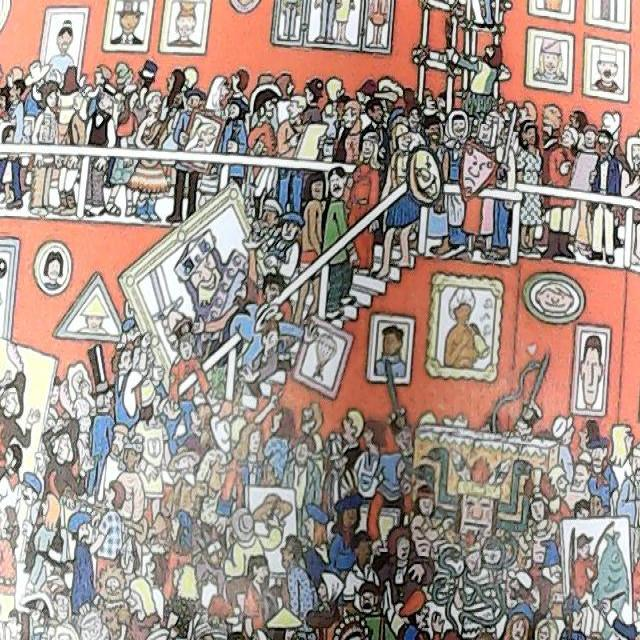waldo: (44, 579, 76, 624)
